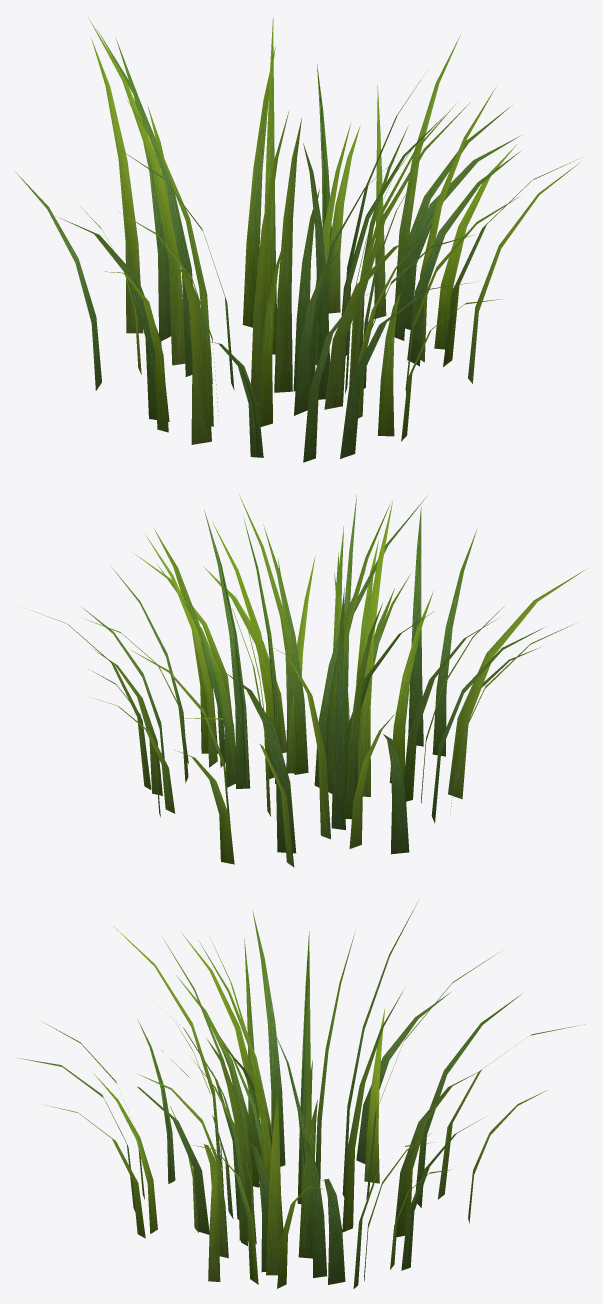
The model's file is grass_light.glb.
3 renders of one model, top to bottom at view 1: azimuth 30°, elevation 25°; view 2: azimuth 150°, elevation 25°; view 3: azimuth 270°, elevation 25°, orthographic. The views are drawn at different scales.
Visible parts, largest first — view 1: GrassLight; view 2: GrassLight; view 3: GrassLight.
Part boxes in pixels (x1,y1,x2,y2): GrassLight: (15,17,582,462); GrassLight: (33,493,585,867); GrassLight: (16,900,584,1288).
Bounding box in the file's own units: 1.01 × 0.6124 × 1.14.
1 material, 1 textured.
